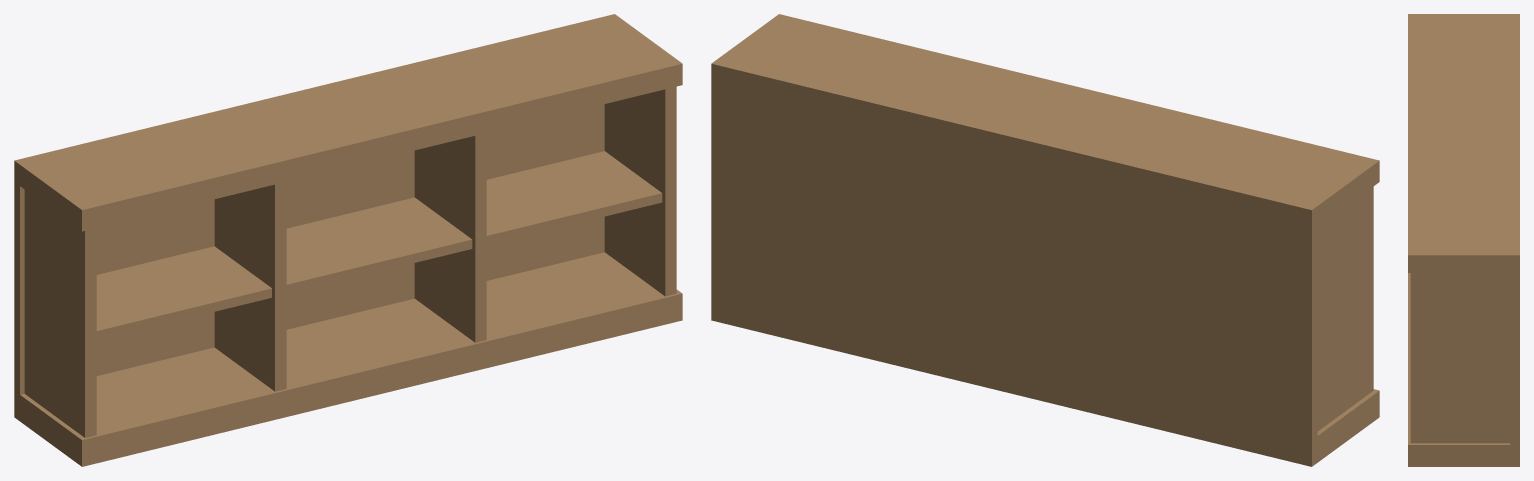
Rendered from forest-shelf.glb.
3 renders of one model, left to right at view 1: azimuth 30°, elevation 25°; view 2: azimuth 150°, elevation 25°; view 3: azimuth 270°, elevation 25°, orthographic. The views are drawn at different scales.
Visible parts, largest first — view 1: Top, Plinth, Back, MidShelf, Upright0, Upright1, Upright3, Upright2; view 2: Back, Top, Plinth, Upright0; view 3: Top, Upright3, Plinth, Back.
Boxes of the visible parts, left/top/right/bottom form: Top: left=14, top=14, right=682, bottom=231; Plinth: left=14, top=252, right=682, bottom=466; Back: left=14, top=104, right=604, bottom=419; MidShelf: left=96, top=151, right=662, bottom=340; Upright0: left=24, top=190, right=96, bottom=437; Upright1: left=214, top=182, right=286, bottom=391; Upright3: left=604, top=86, right=676, bottom=296; Upright2: left=414, top=133, right=486, bottom=342; Back: left=711, top=75, right=1317, bottom=466; Top: left=711, top=14, right=1379, bottom=230; Plinth: left=711, top=294, right=1379, bottom=466; Upright0: left=1317, top=186, right=1373, bottom=431; Top: left=1408, top=14, right=1519, bottom=272; Upright3: left=1410, top=273, right=1510, bottom=443; Plinth: left=1408, top=273, right=1519, bottom=466; Back: left=1510, top=255, right=1519, bottom=466.
Bounding box in the file's own units: 2.35 × 0.96 × 0.46.
